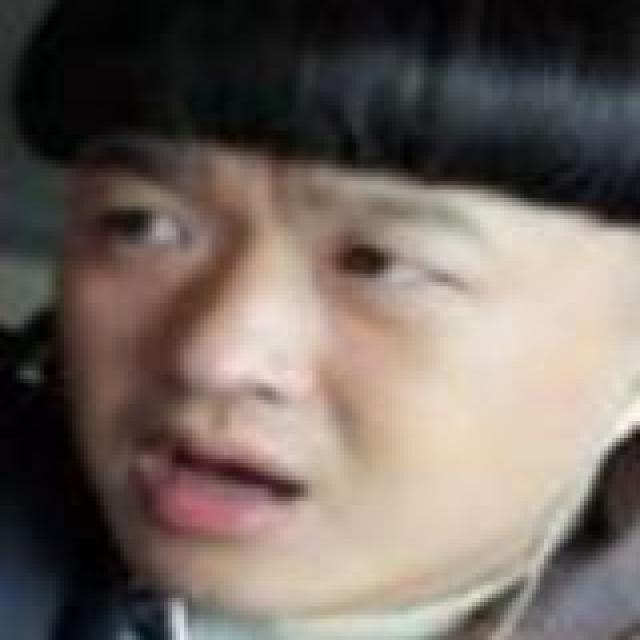no_mask: (31, 63, 620, 620)
